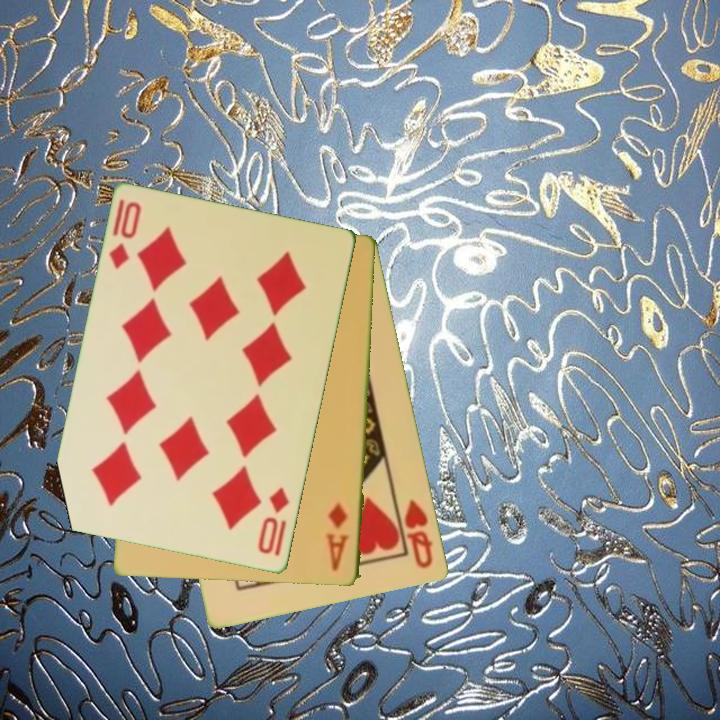10d: (105, 198, 145, 273), (254, 484, 293, 558)
Ad: (324, 499, 352, 574)
Qh: (401, 496, 436, 572)
